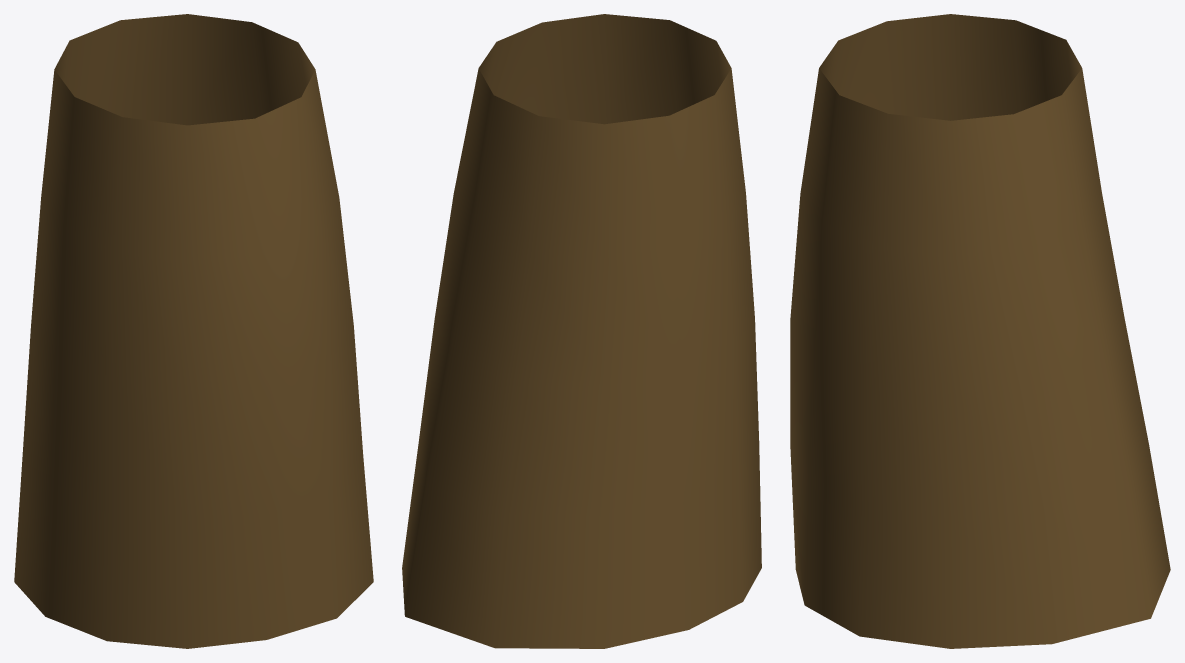
Rendered from mining_outfit_cuisse.L.glb.
3 renders of one model, left to right at view 1: azimuth 30°, elevation 25°; view 2: azimuth 150°, elevation 25°; view 3: azimuth 270°, elevation 25°, orthographic. The views are drawn at different scales.
Visible parts, largest first — view 1: mining_outfit_cuisse.L; view 2: mining_outfit_cuisse.L; view 3: mining_outfit_cuisse.L.
Boxes of the visible parts, bbox=[...] form: mining_outfit_cuisse.L: bbox=[14, 14, 373, 648]; mining_outfit_cuisse.L: bbox=[402, 14, 761, 648]; mining_outfit_cuisse.L: bbox=[790, 14, 1170, 648].
Size of the model in its own units: 0.2326 by 0.37 by 0.2542.
